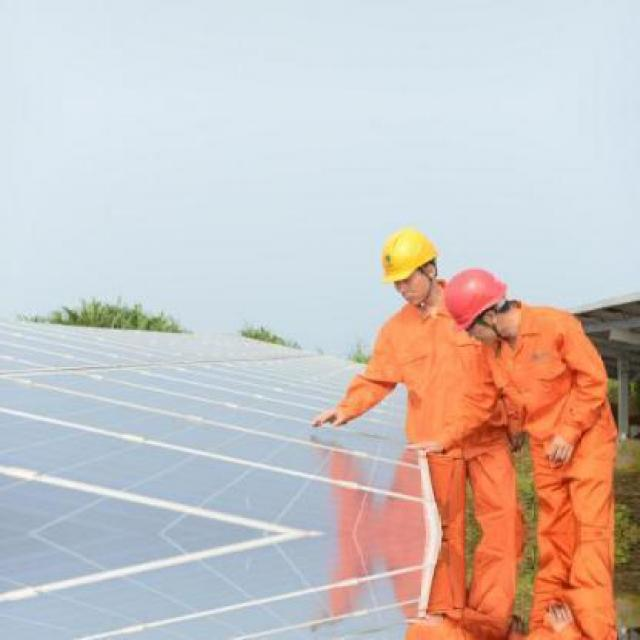hat: (374, 212, 452, 292), (442, 258, 516, 335)
